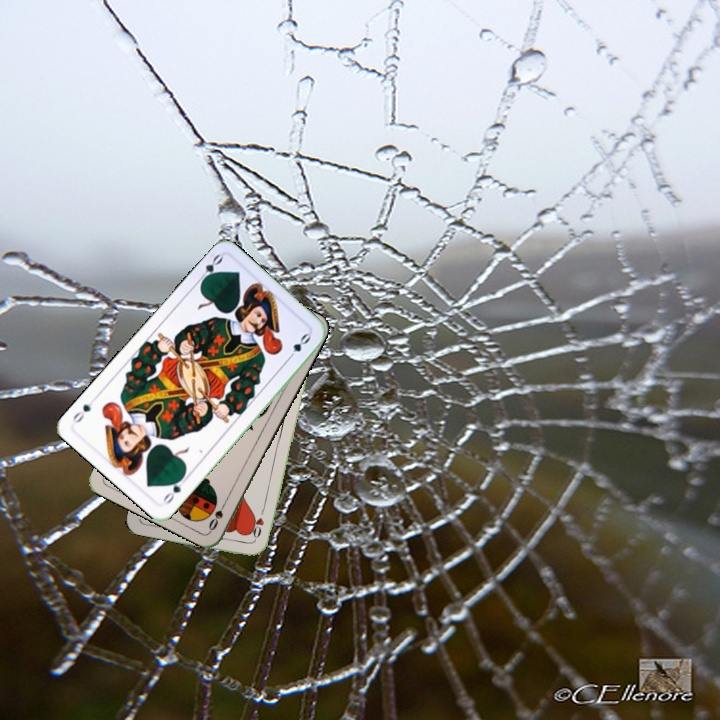GO: (193, 250, 225, 287), (159, 471, 190, 507)
HO: (249, 503, 267, 543)
SO: (205, 495, 230, 533)
